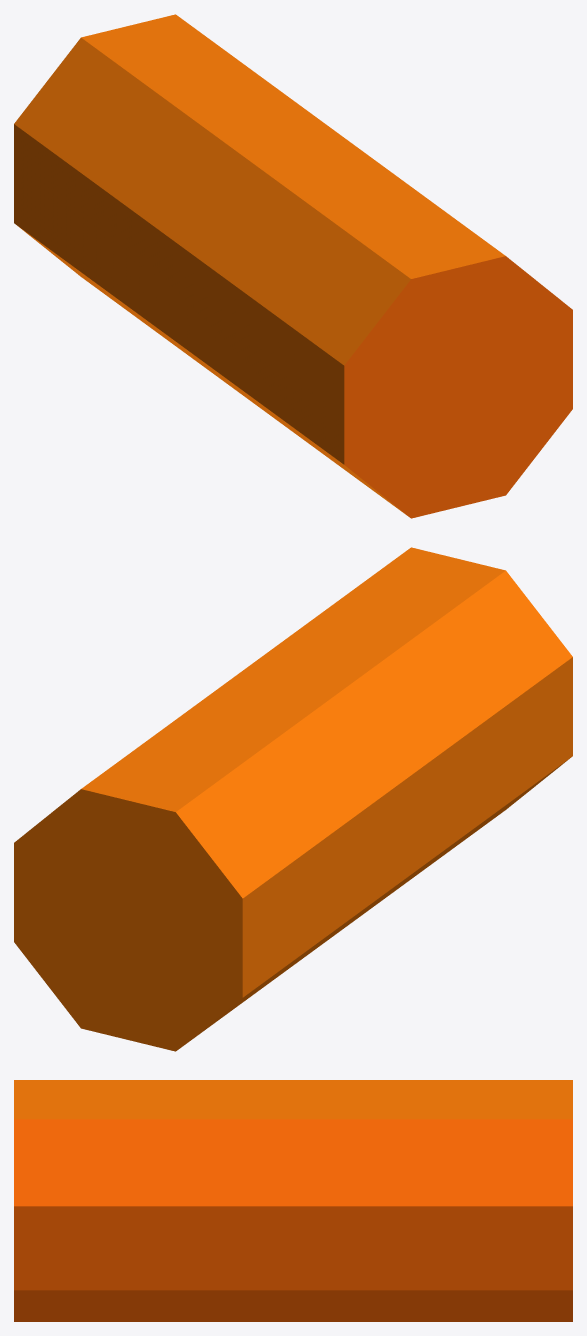
Rendered from beam_segment.gltf.
The picture shows the model from 3 angles, top to bottom: view 1: azimuth 30°, elevation 25°; view 2: azimuth 150°, elevation 25°; view 3: azimuth 270°, elevation 25°; orthographic projection. The views are drawn at different scales.
Visible parts, largest first — view 1: cylinder; view 2: cylinder; view 3: cylinder.
Boxes of the visible parts, left/top/right/bottom form: cylinder: left=14, top=14, right=572, bottom=518; cylinder: left=14, top=547, right=572, bottom=1051; cylinder: left=14, top=1080, right=572, bottom=1321.
Size of the model in its own units: 1 by 1 by 2.5.
Materials: 1 (1 with a texture image).
